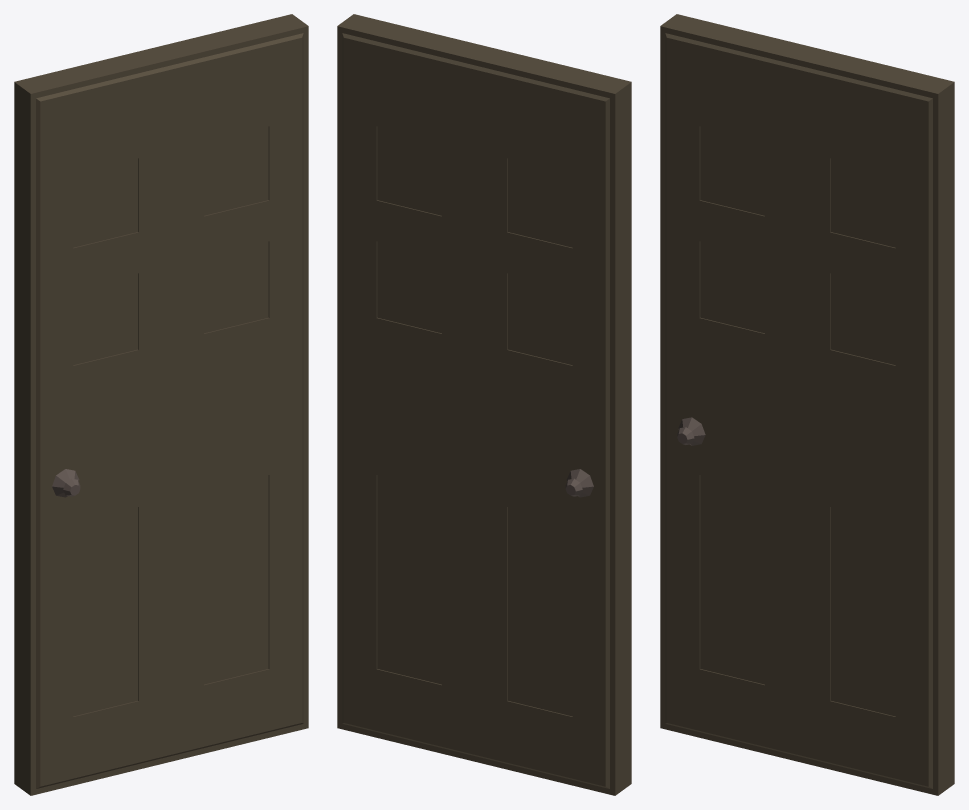
Rendered from quaternius-house-interior-door-2.glb.
3 views of the same model, side by side, from view 1: azimuth 30°, elevation 25°; view 2: azimuth 150°, elevation 25°; view 3: azimuth 330°, elevation 25° (orthographic).
Parts seen in each view (by area): view 1: Door_2; view 2: Door_2; view 3: Door_2.
Part boxes in pixels (x1,y1,x2,y2): Door_2: (14,14,308,795); Door_2: (337,14,631,795); Door_2: (660,14,954,795).
Size of the model in its own units: 1.74 by 4.2 by 0.4212.
